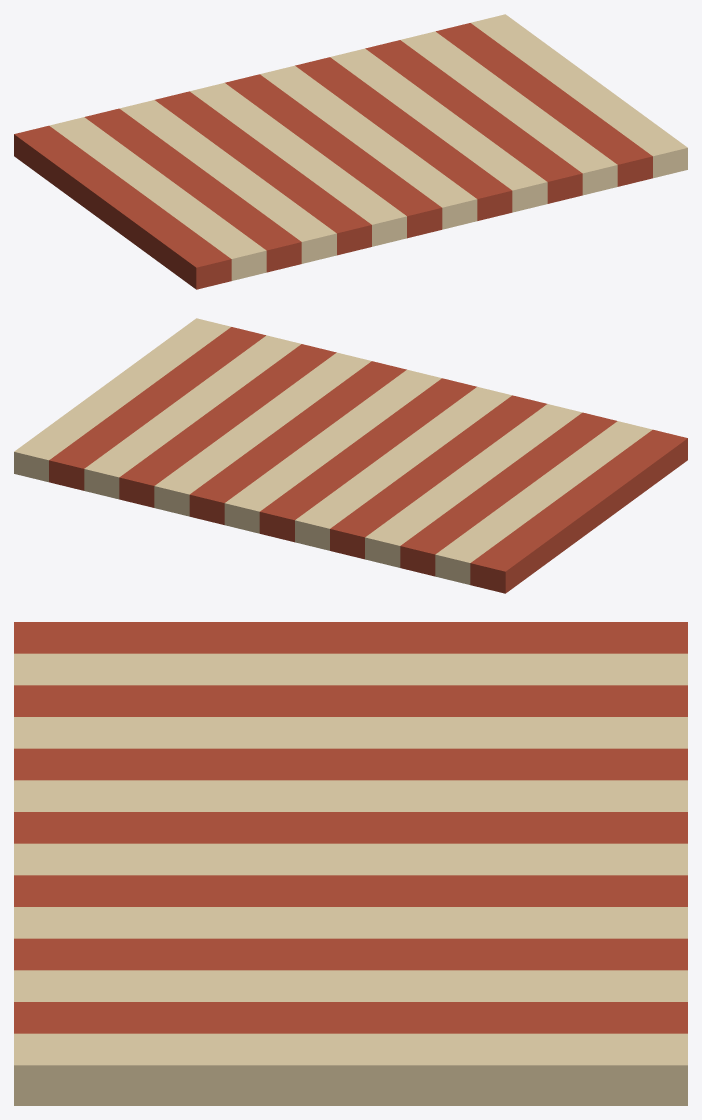
File: prop_stall_2_canopy.glb
3 renders of one model, top to bottom at view 1: azimuth 30°, elevation 25°; view 2: azimuth 150°, elevation 25°; view 3: azimuth 270°, elevation 25°, orthographic. The views are drawn at different scales.
Visible parts, largest first — view 1: PROP_Stall_2_Canopy; view 2: PROP_Stall_2_Canopy; view 3: PROP_Stall_2_Canopy.
Part boxes in pixels (x1=…): PROP_Stall_2_Canopy: x1=14, y1=14, x2=687, y2=289; PROP_Stall_2_Canopy: x1=14, y1=318, x2=687, y2=593; PROP_Stall_2_Canopy: x1=14, y1=622, x2=687, y2=1105.
Size of the model in its own units: 2.8 by 0.12 by 1.8.
